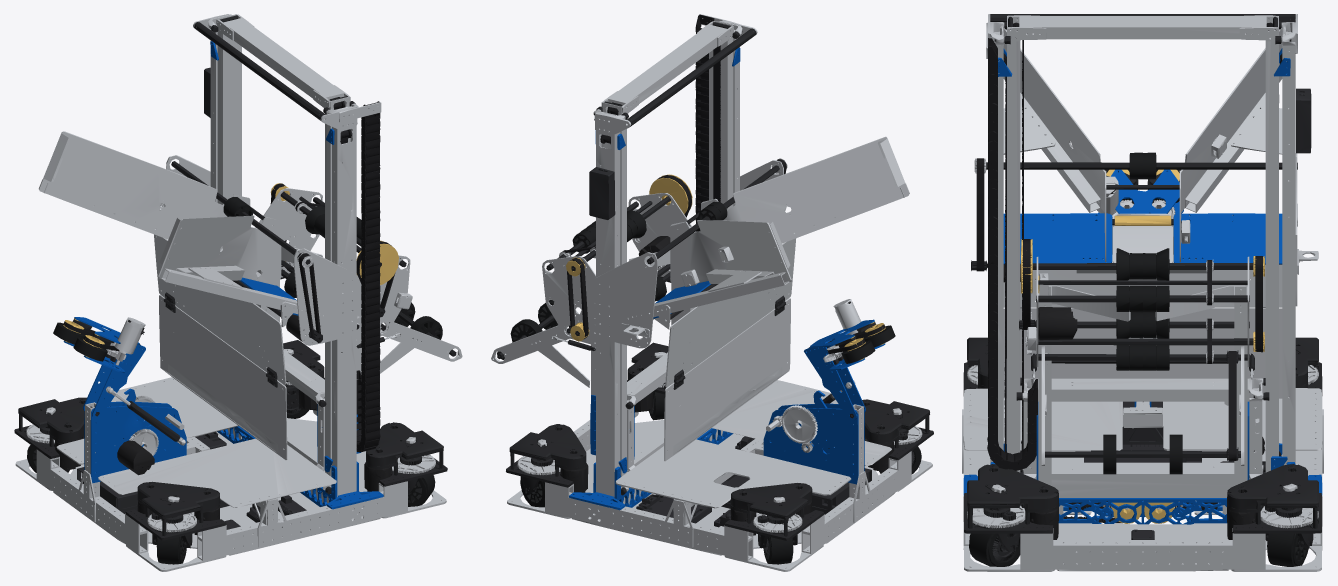
Rendered from exodus.glb.
3 renders of one model, left to right at view 1: azimuth 30°, elevation 25°; view 2: azimuth 150°, elevation 25°; view 3: azimuth 270°, elevation 25°, orthographic. The views are drawn at different scales.
Parts seen in each view (by area): view 1: exodus-geometry; view 2: exodus-geometry; view 3: exodus-geometry.
Boxes of the visible parts, x1,y1,x2,y2 form: exodus-geometry: (14,14,462,571); exodus-geometry: (491,14,933,571); exodus-geometry: (962,14,1323,571).
Size of the model in its own units: 0.9592 by 1.06 by 0.6922.
